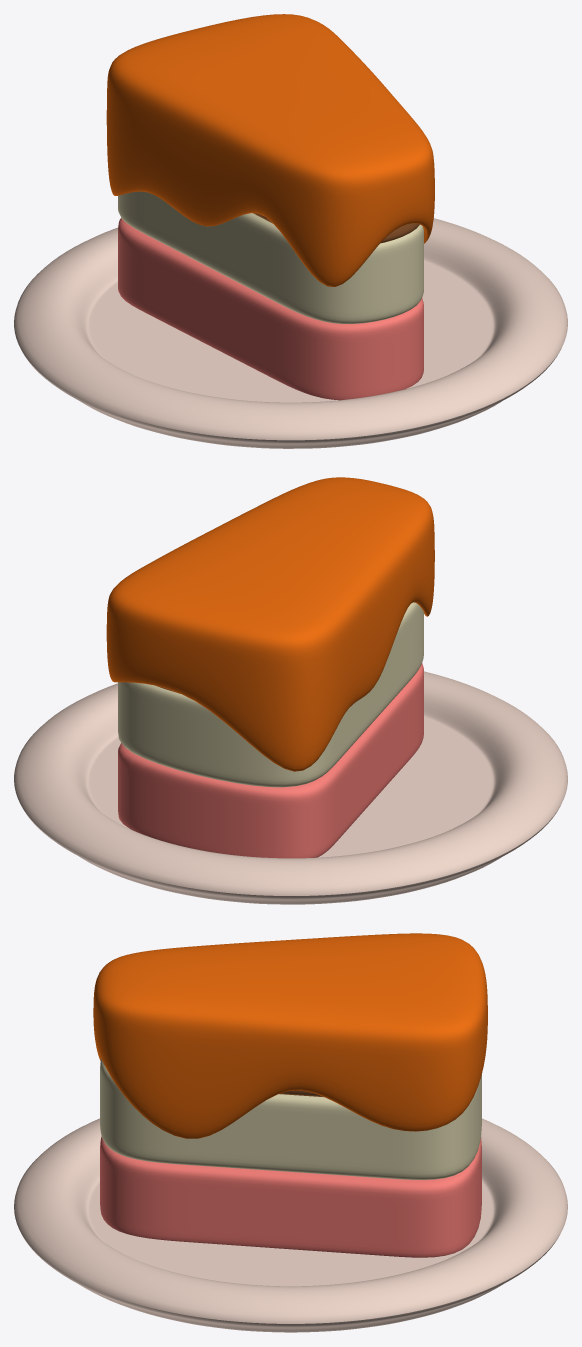
File: cake3.fbx
3 renders of one model, top to bottom at view 1: azimuth 30°, elevation 25°; view 2: azimuth 150°, elevation 25°; view 3: azimuth 270°, elevation 25°, orthographic.
Visible parts, largest first — view 1: Plane.003, Circle, Plane, Plane.001; view 2: Plane.003, Circle, Plane, Plane.001; view 3: Plane.003, Circle, Plane, Plane.001.
Boxes of the visible parts, x1,y1,x2,y2 form: Plane.003: (106, 14, 434, 286); Circle: (14, 218, 567, 448); Plane: (118, 218, 423, 400); Plane.001: (118, 191, 423, 323); Plane.003: (106, 477, 434, 771); Circle: (14, 671, 567, 904); Plane: (118, 663, 423, 858); Plane.001: (118, 602, 423, 787); Plane.003: (93, 933, 487, 1138); Circle: (14, 1118, 567, 1332); Plane: (100, 1136, 481, 1257); Plane.001: (100, 1058, 481, 1179).
Size of the model in its own units: 254 by 131 by 254.
